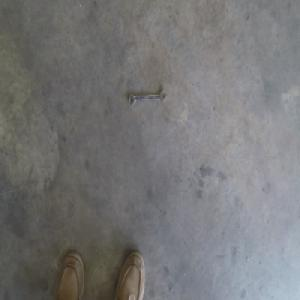Wrench: (128, 89, 167, 105)
